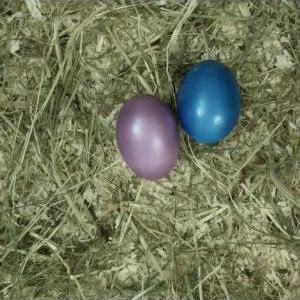egg: (116, 94, 181, 180), (177, 59, 241, 144)
